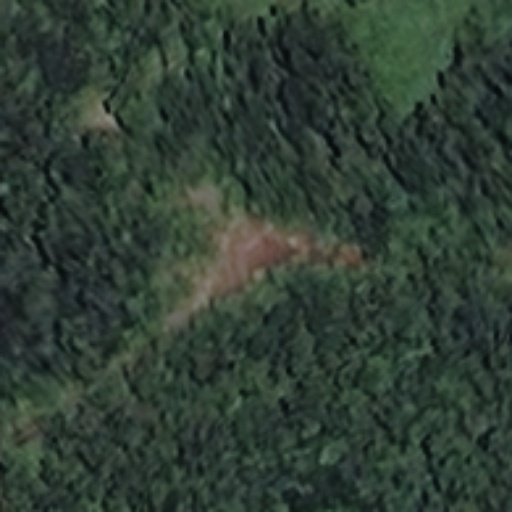landslide: (190, 184, 362, 309)
